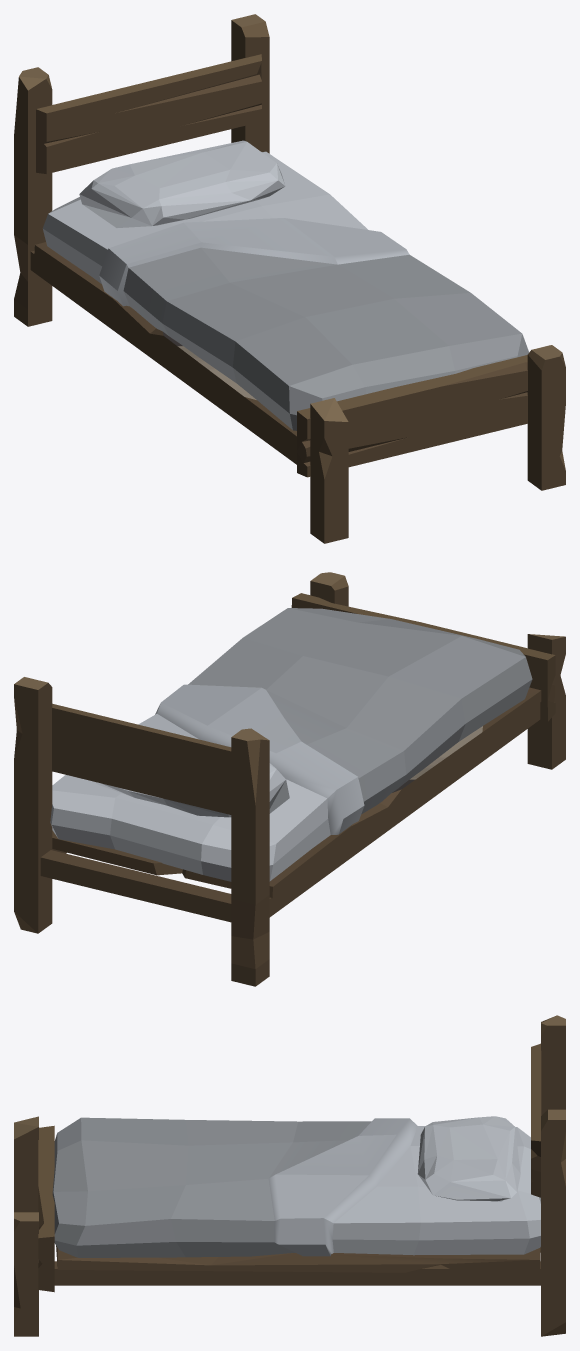
Rendered from SM_Prop_Bed_04.fbx.
3 views of the same model, one above another, from view 1: azimuth 30°, elevation 25°; view 2: azimuth 150°, elevation 25°; view 3: azimuth 270°, elevation 25° (orthographic). The views are drawn at different scales.
Parts seen in each view (by area): view 1: SM_Prop_Bed_04; view 2: SM_Prop_Bed_04; view 3: SM_Prop_Bed_04.
Boxes of the visible parts, bbox=[...] form: SM_Prop_Bed_04: bbox=[14, 14, 565, 543]; SM_Prop_Bed_04: bbox=[14, 572, 565, 986]; SM_Prop_Bed_04: bbox=[14, 1015, 565, 1336].
Bounding box in the file's own units: 1.06 × 0.9639 × 2.23.
Materials: 1 (1 with a texture image).
